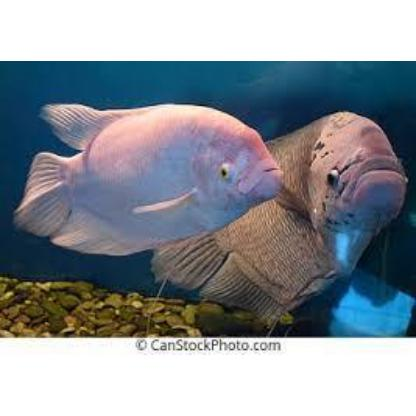gurame: (176, 108, 410, 308), (21, 102, 277, 254)
